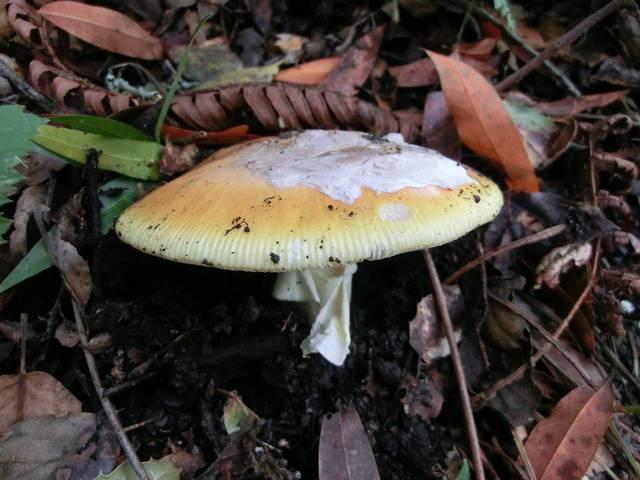edible_mushroom: (113, 126, 504, 366)
